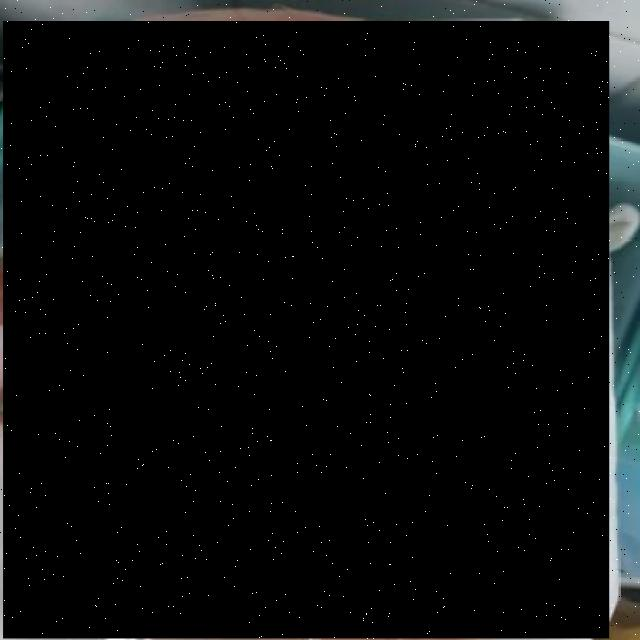Sweet_Potato: (2, 20, 610, 638)
